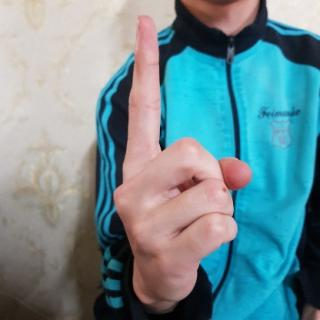RAA: (109, 12, 255, 314)
